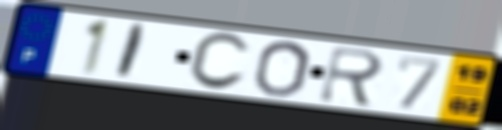1: (80, 17, 117, 79)
7: (393, 54, 444, 112)
C: (184, 31, 253, 92)
I: (112, 22, 151, 81)
O: (250, 40, 314, 98)
R: (315, 44, 388, 109)
